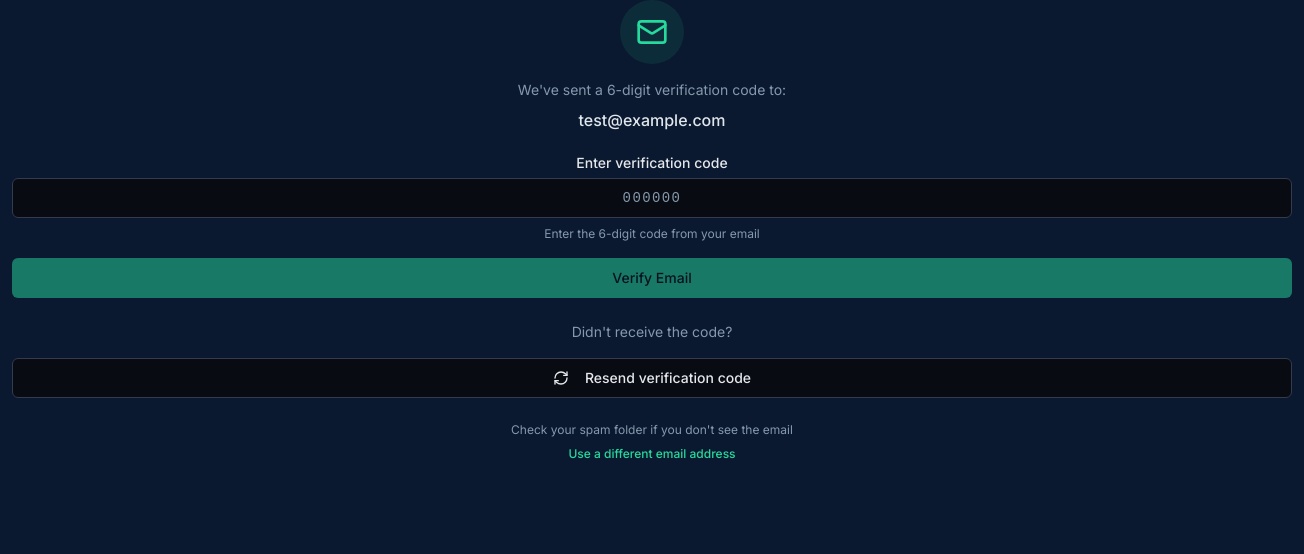
Scenario: EmailVerificationForm › Error Handling › should handle expired verification code error
Step 1. Type "123456" into the field labelled "Enter verification code" → (652, 198), box [12, 178, 1292, 218]
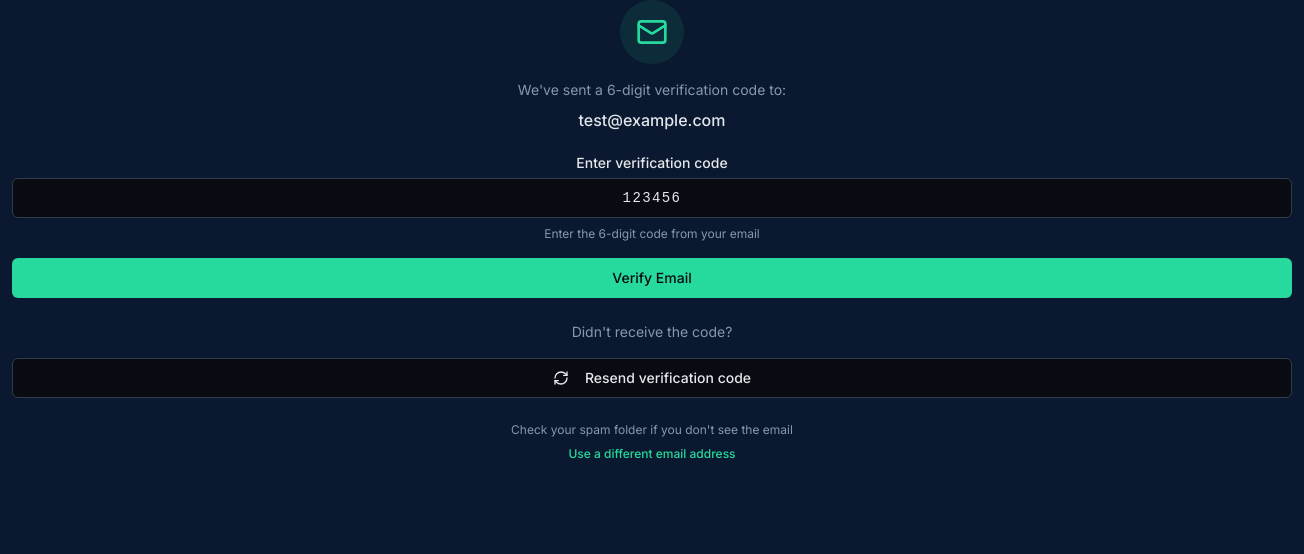
Step 2. Click the button "Verify Email" → (652, 278), box [12, 258, 1292, 298]
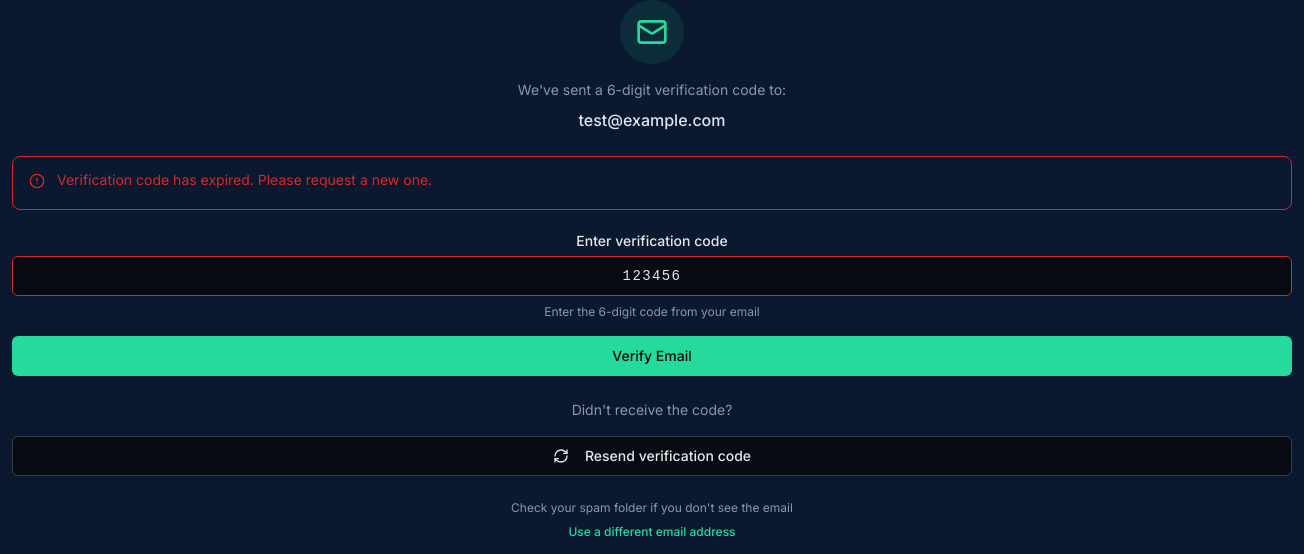
Expected: the text "Verification code has expired. Please request a new one." is shown, [57, 171, 432, 188]
